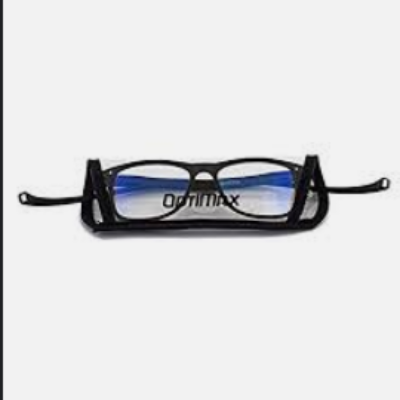glasses: (81, 156, 333, 232)
